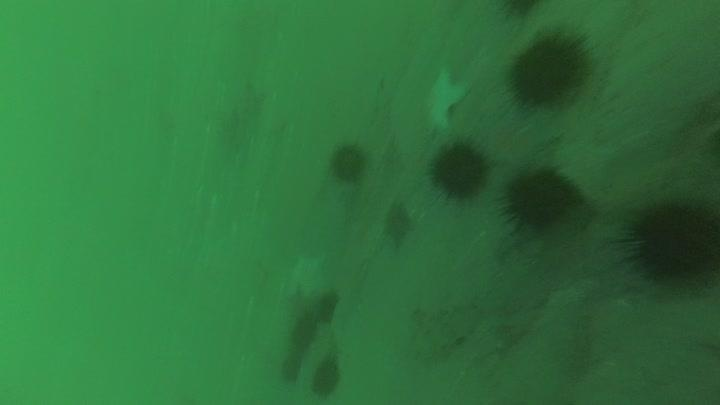echinus: (619, 193, 720, 291), (504, 26, 594, 110), (498, 162, 581, 234), (426, 137, 492, 202), (326, 140, 370, 185), (308, 353, 345, 400), (311, 288, 343, 326), (494, 1, 545, 23), (279, 347, 307, 383), (291, 318, 318, 346)
starfish: (418, 66, 472, 137), (378, 199, 417, 252), (285, 253, 332, 296)
